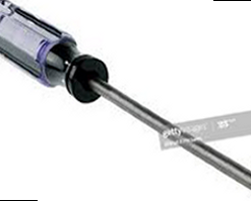Screwdriver: (1, 1, 251, 188)
